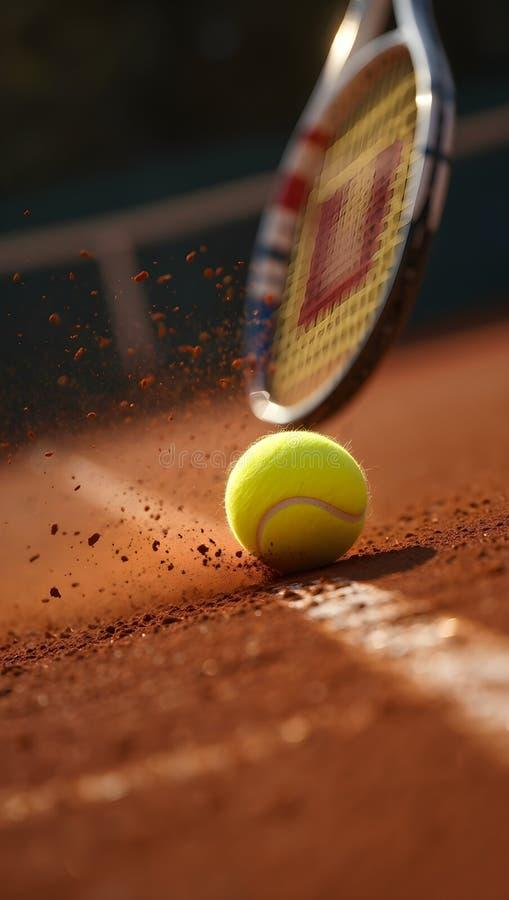ball_tennis: (224, 430, 369, 566)
